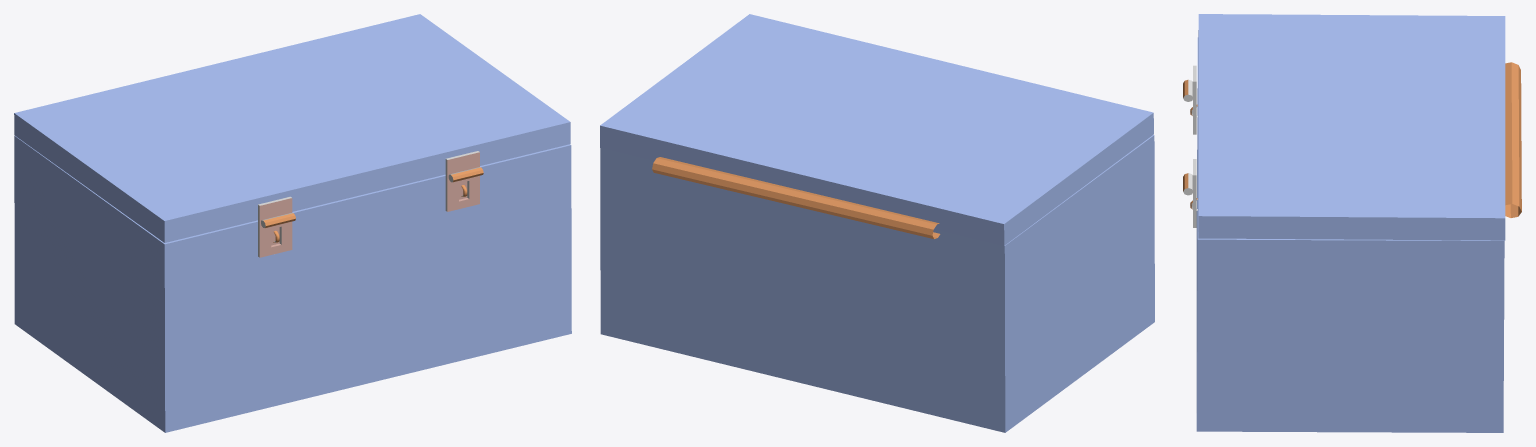
The model's file is контейнер.fbx.
3 renders of one model, left to right at view 1: azimuth 30°, elevation 25°; view 2: azimuth 150°, elevation 25°; view 3: azimuth 270°, elevation 25°, orthographic. The views are drawn at different scales.
Parts seen in each view (by area): view 1: Cube, Cube.001, Плоскость.001, Плоскость.003; view 2: Cube, Cube.001, Цилиндр; view 3: Cube.001, Cube, Цилиндр.
Part boxes in pixels (<box>): Cube: <box>14,135,571,432</box>; Cube.001: <box>14,14,570,242</box>; Плоскость.001: <box>259,198,292,257</box>; Плоскость.003: <box>447,152,479,211</box>; Cube: <box>600,135,1154,432</box>; Cube.001: <box>600,14,1153,245</box>; Цилиндр: <box>652,157,940,239</box>; Cube.001: <box>1198,14,1505,240</box>; Cube: <box>1196,37,1504,432</box>; Цилиндр: <box>1505,62,1521,217</box>.
Size of the model in its own units: 312 by 156 by 221.
